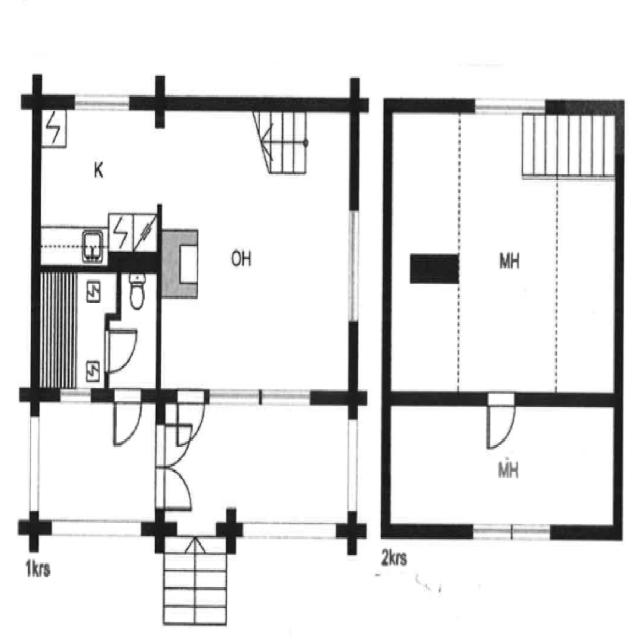door: (148, 419, 196, 518), (169, 383, 209, 455), (480, 388, 520, 458), (98, 323, 141, 380), (110, 384, 144, 452)
window: (234, 510, 346, 556), (43, 506, 150, 550), (207, 379, 316, 406), (467, 90, 551, 125), (467, 514, 557, 546), (21, 404, 45, 524), (343, 200, 365, 329), (341, 409, 365, 525), (68, 83, 137, 119), (54, 380, 98, 410), (0, 79, 29, 115)
zone: (386, 107, 622, 400), (162, 101, 360, 396), (37, 97, 163, 261), (35, 262, 112, 393), (118, 262, 160, 400)
